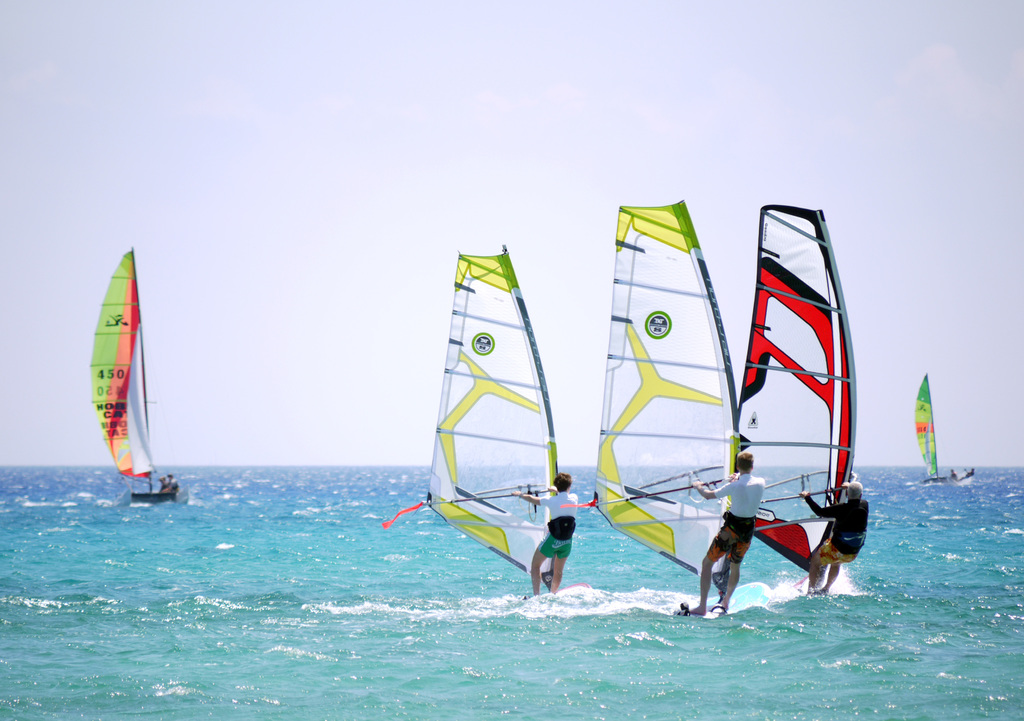boat: (58, 229, 198, 526), (909, 356, 988, 504)
